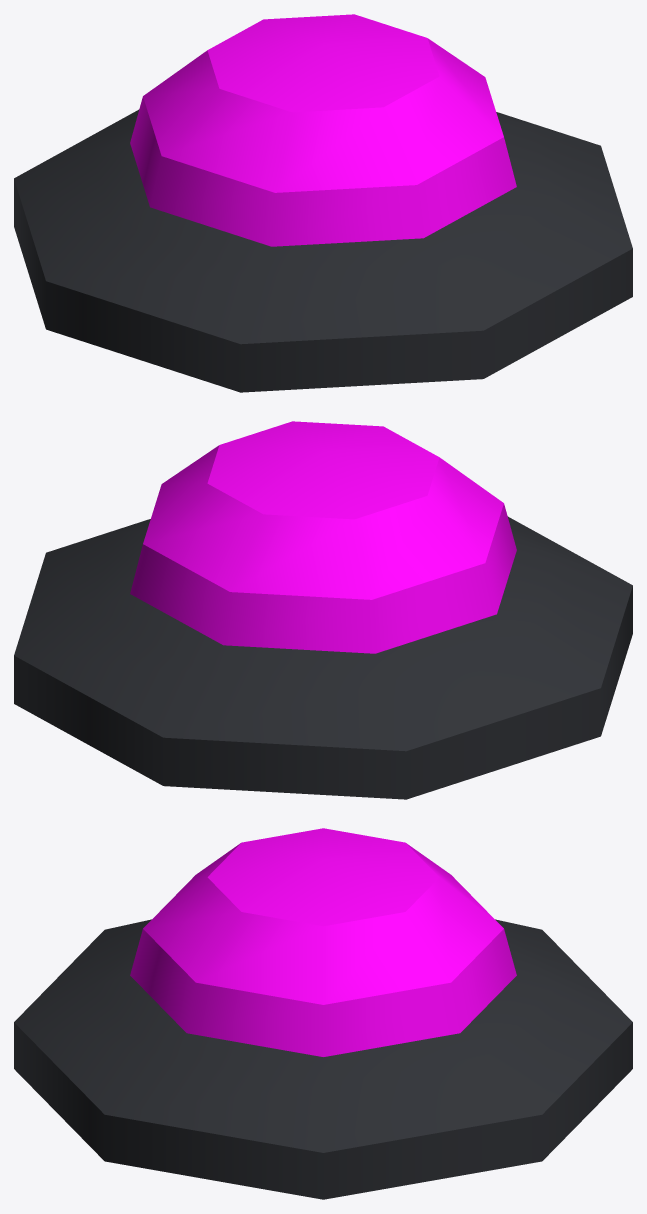
Rendered from prop_helipad_light.glb.
The picture shows the model from 3 angles, top to bottom: view 1: azimuth 30°, elevation 25°; view 2: azimuth 150°, elevation 25°; view 3: azimuth 270°, elevation 25°; orthographic projection. The views are drawn at different scales.
Visible parts, largest first — view 1: prop_helipad_light__mesh; view 2: prop_helipad_light__mesh; view 3: prop_helipad_light__mesh.
Boxes of the visible parts, <box> form: prop_helipad_light__mesh: <box>14,14,632,392</box>; prop_helipad_light__mesh: <box>14,421,632,799</box>; prop_helipad_light__mesh: <box>14,828,632,1199</box>.
Bounding box in the file's own units: 0.24 × 0.09 × 0.24.
Materials: 1 (1 with a texture image).
